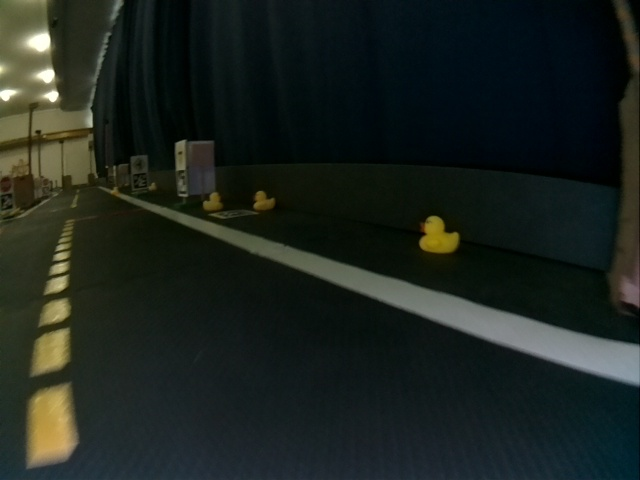Duckie: (419, 216, 457, 253), (254, 191, 274, 210), (204, 192, 221, 211), (110, 187, 120, 196), (150, 182, 158, 191)
Intersection sign: (175, 145, 185, 166), (133, 158, 146, 171)
QR code: (211, 210, 256, 219), (176, 171, 186, 194), (133, 175, 146, 188)
